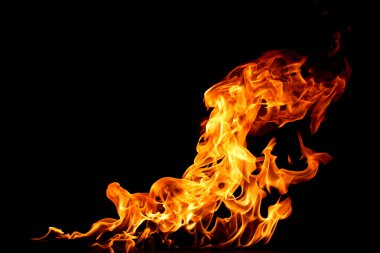fire: (197, 75, 293, 237), (110, 159, 191, 238)
